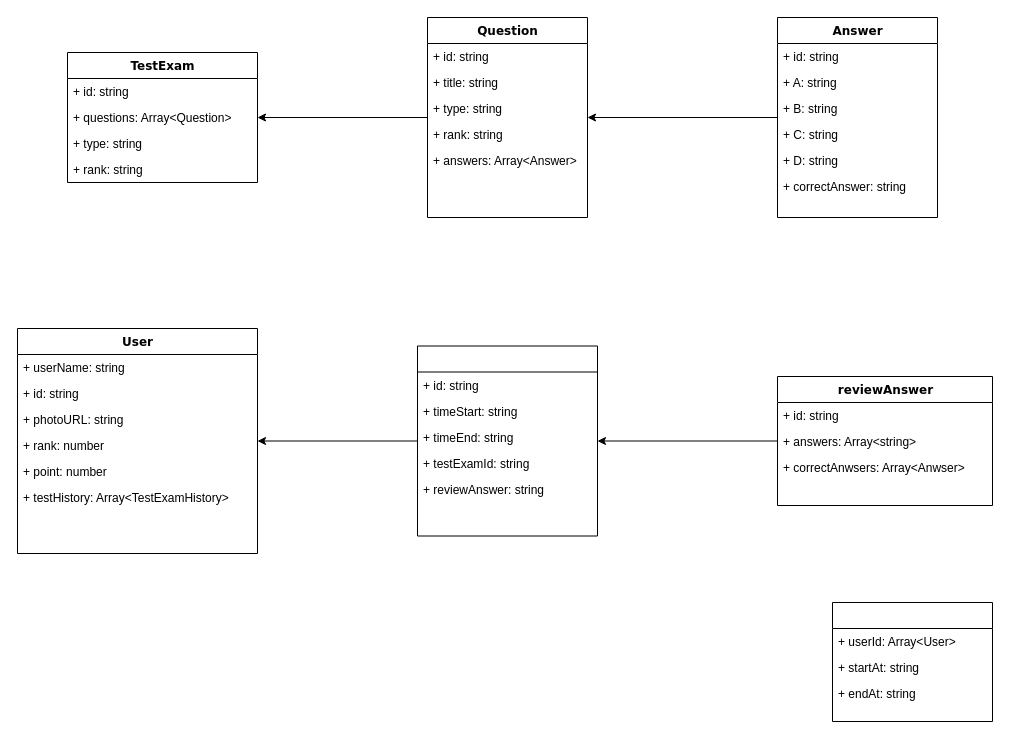
Image size: 1010x739. Some labels were removed from this diagram. Here are the shapes that lost their labels. From the top down, the box of each, then its label:
(416, 345, 598, 536): TestExamHistory
(832, 602, 992, 722): Leaders
